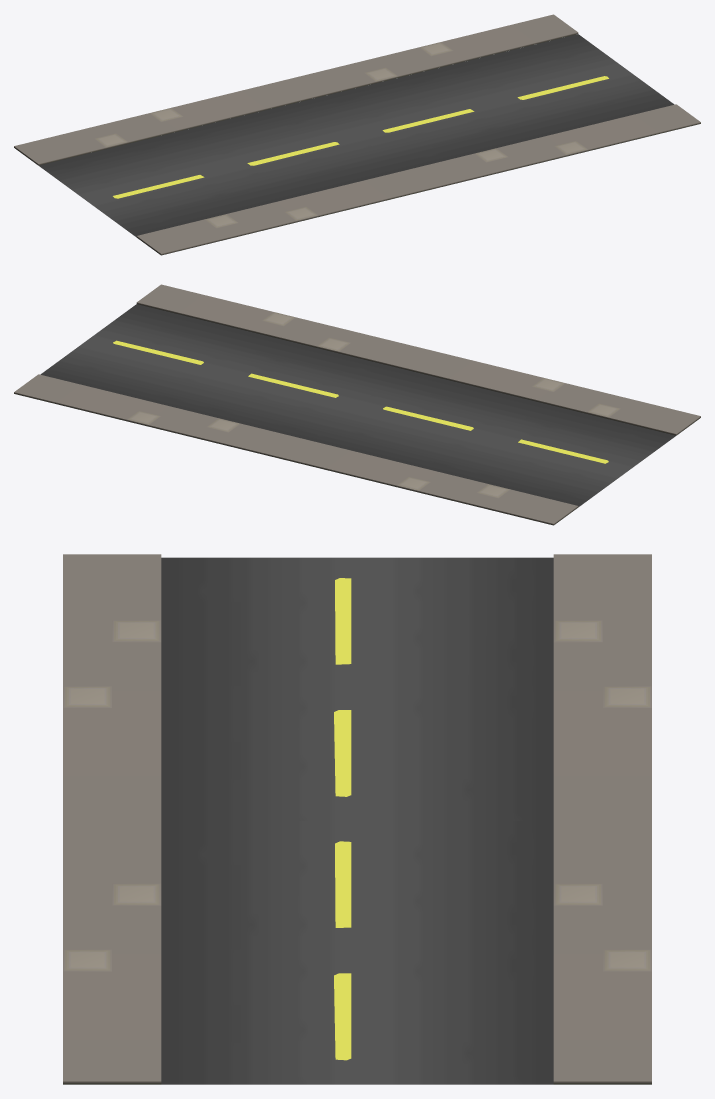
The model's file is road.fbx.
3 renders of one model, top to bottom at view 1: azimuth 30°, elevation 25°; view 2: azimuth 150°, elevation 25°; view 3: azimuth 270°, elevation 25°, orthographic. The views are drawn at different scales.
Parts seen in each view (by area): view 1: road; view 2: road; view 3: road.
Part boxes in pixels (<box>): road: <box>14,14,700,255</box>; road: <box>14,284,700,525</box>; road: <box>63,554,651,1084</box>.
Size of the model in its own units: 10369 by 35.65 by 4898.
1 material, 1 textured.
